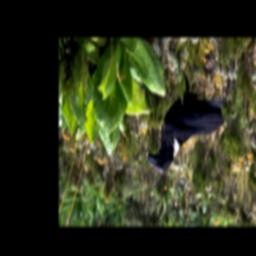Crow: (146, 72, 225, 175)
